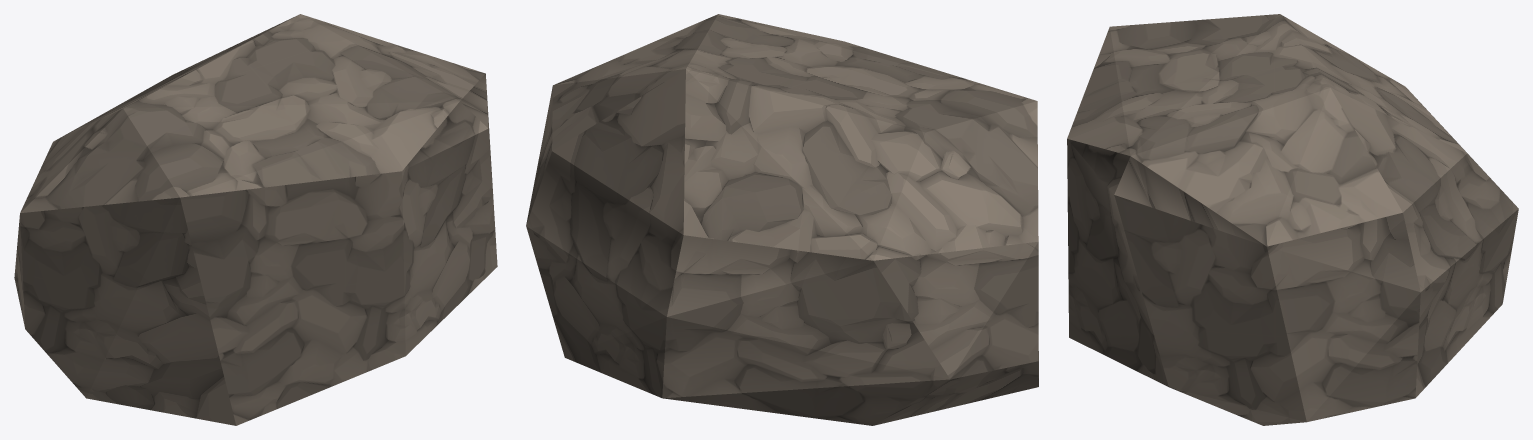
The picture shows the model from 3 angles, left to right: view 1: azimuth 30°, elevation 25°; view 2: azimuth 150°, elevation 25°; view 3: azimuth 270°, elevation 25°; orthographic projection. The views are drawn at different scales.
Parts seen in each view (by area): view 1: SM_Rock_03; view 2: SM_Rock_03; view 3: SM_Rock_03.
Part boxes in pixels (x1=…): SM_Rock_03: x1=14, y1=14, x2=497, y2=425; SM_Rock_03: x1=526, y1=14, x2=1038, y2=425; SM_Rock_03: x1=1067, y1=14, x2=1518, y2=425.
Size of the model in its own units: 0.4761 by 0.3079 by 0.384.
1 material, 1 textured.
